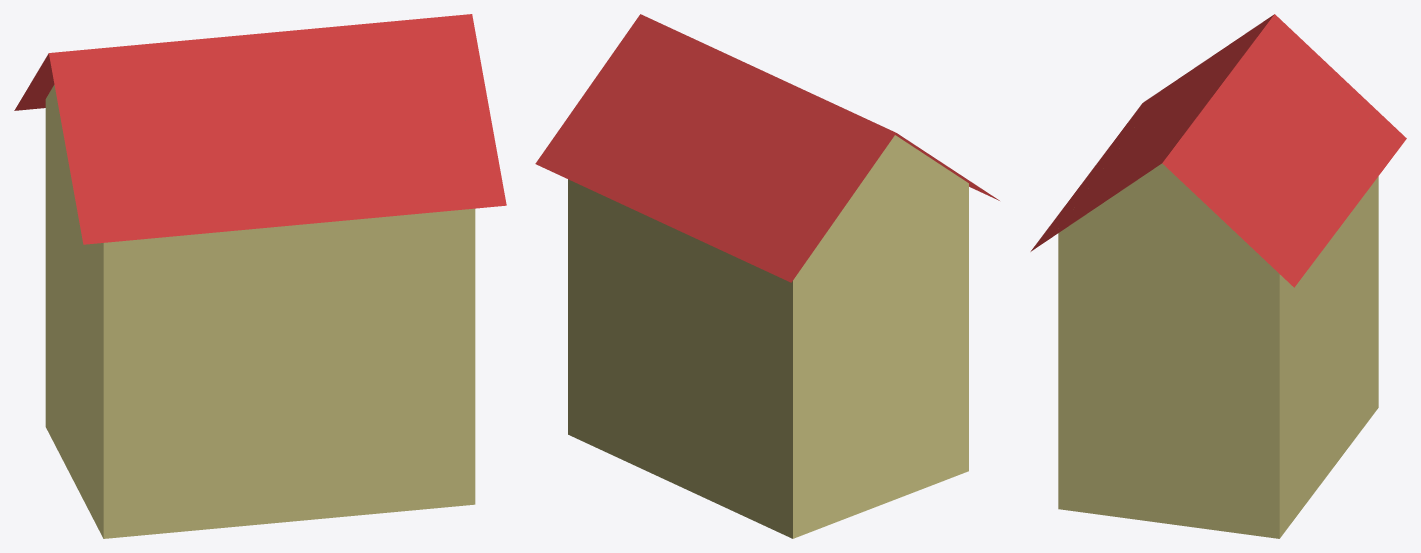
3 views of the same model, side by side, from view 1: azimuth 30°, elevation 25°; view 2: azimuth 150°, elevation 25°; view 3: azimuth 270°, elevation 25° (orthographic). The views are drawn at different scales.
Bounding box in the file's own units: 14.51 × 12.5 × 13.54.
